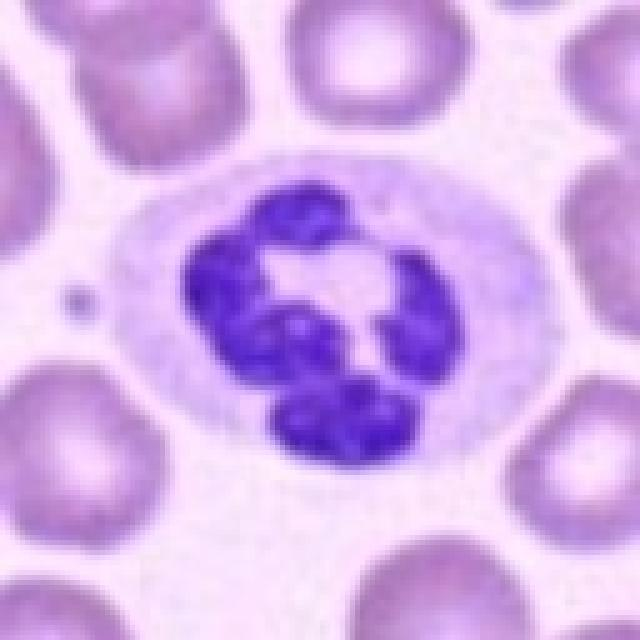neutro: (124, 104, 520, 519)
